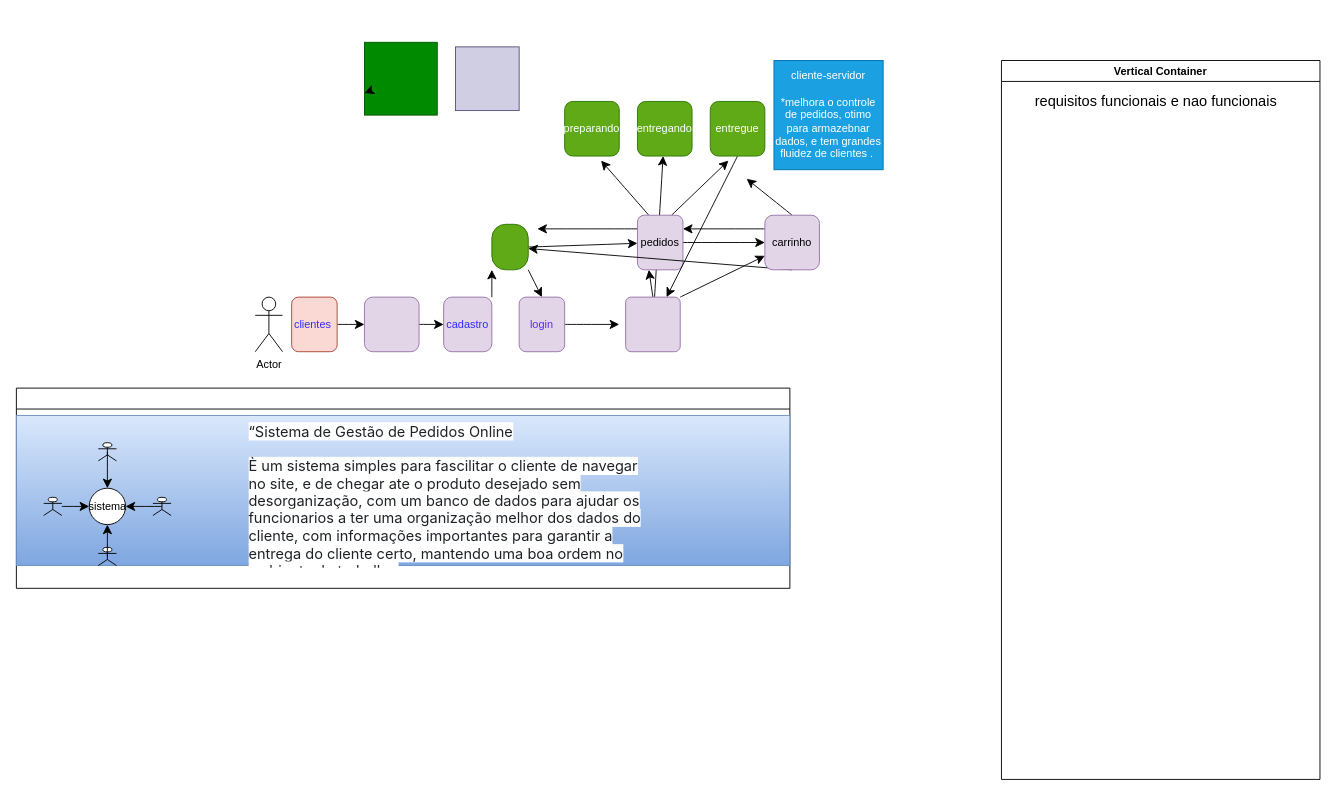
Some shapes in this 1336 by 795 pixel diagram are drawn without their labels. The box of each missing label's shape, as (x1, y1, x2, y2) in pixels:
banco de dados: (491, 223, 528, 270)
interface: (625, 296, 680, 352)
roxo = requisito funcional: (455, 46, 519, 111)
site: (364, 296, 419, 352)
um pouco mais sobre.: (15, 387, 790, 588)
verde = requisitos nao funcionais: (364, 41, 437, 115)
